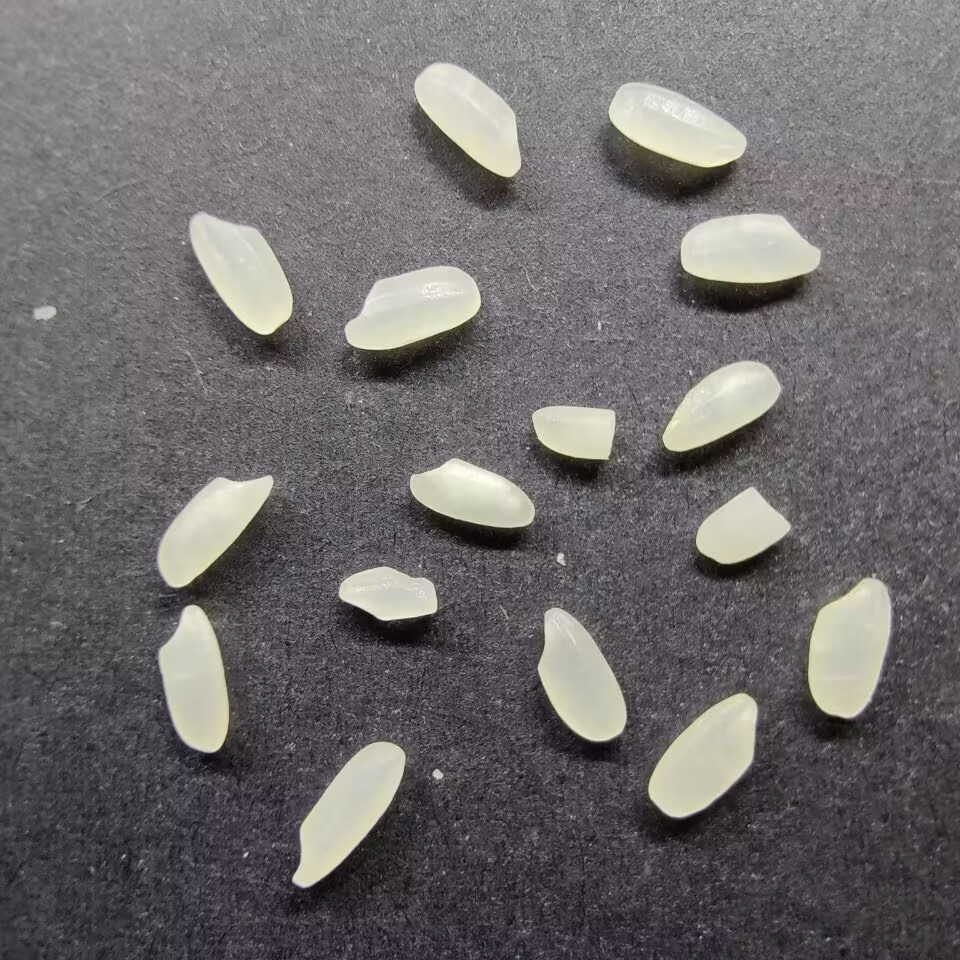broken: (693, 484, 792, 567), (338, 565, 438, 622), (528, 404, 618, 461)
rice: (289, 741, 406, 890), (154, 470, 276, 591), (646, 691, 760, 817), (187, 211, 295, 337), (411, 58, 522, 179), (805, 575, 893, 721), (535, 607, 629, 743), (608, 79, 748, 169), (340, 265, 481, 352), (659, 359, 782, 454), (154, 603, 229, 752), (677, 211, 821, 284), (404, 457, 535, 530)
